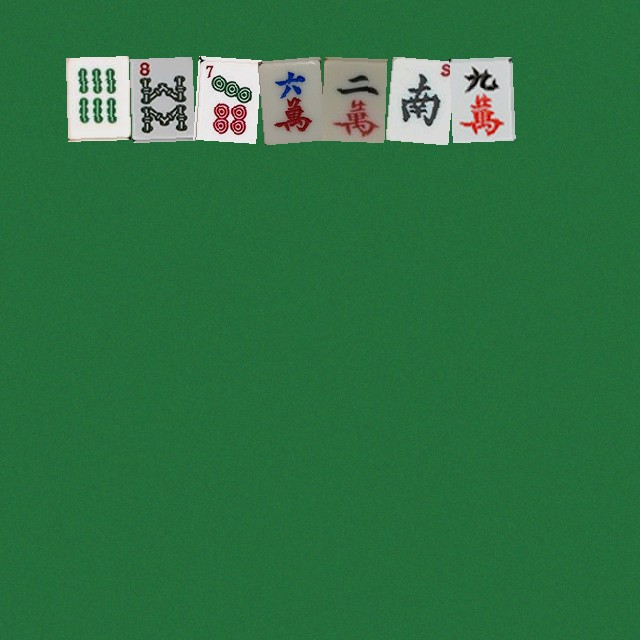tile: (65, 56, 128, 140), (129, 56, 192, 140), (193, 56, 256, 140), (257, 56, 320, 140), (321, 56, 384, 140), (385, 56, 448, 140), (449, 56, 512, 140)
